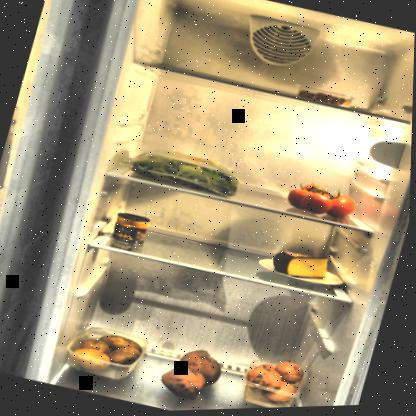cheese: (270, 242, 337, 289)
corn: (112, 211, 153, 248)
onion: (238, 352, 312, 409)
potato: (67, 317, 158, 389)
shrimp: (296, 88, 353, 112)
spinach: (119, 139, 254, 207)
sweet_potato: (157, 339, 232, 410)
tomato: (284, 177, 363, 227)
